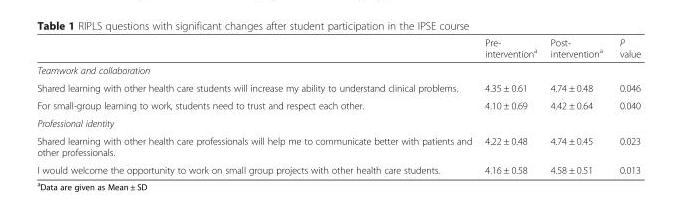table: (36, 36, 640, 175)
table column: (36, 36, 477, 175), (543, 36, 610, 175), (477, 36, 543, 175), (610, 36, 640, 175)
table column header: (36, 36, 640, 61)
table projected row header: (36, 61, 640, 78), (36, 114, 640, 131)
table row: (36, 131, 640, 160), (36, 36, 640, 61), (36, 78, 640, 96), (36, 96, 640, 114), (36, 61, 640, 78), (36, 114, 640, 131), (36, 160, 640, 175)
